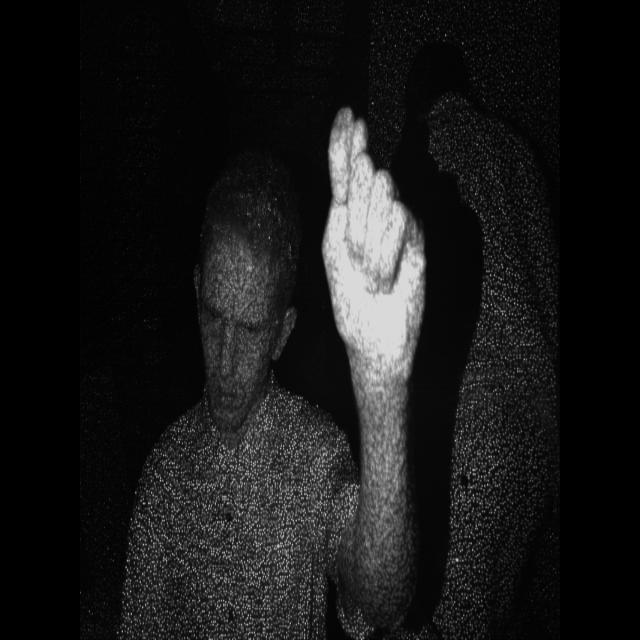T: (312, 92, 439, 394)
